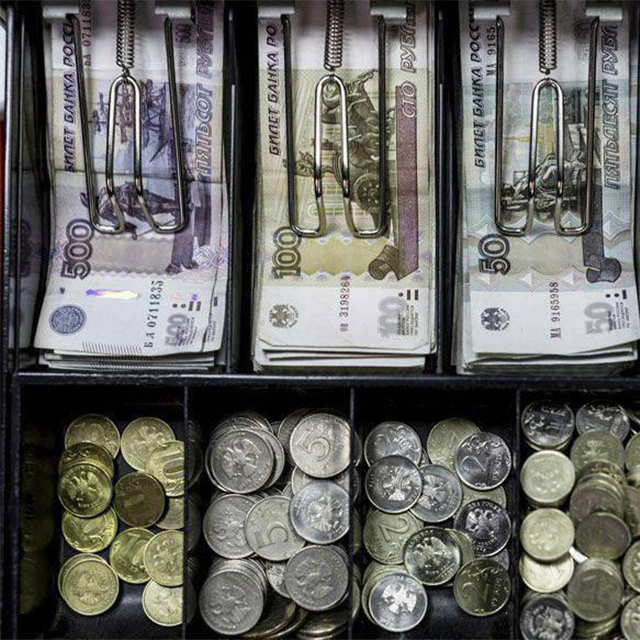banknotes: (39, 5, 222, 365), (254, 8, 434, 373), (458, 3, 637, 367)
